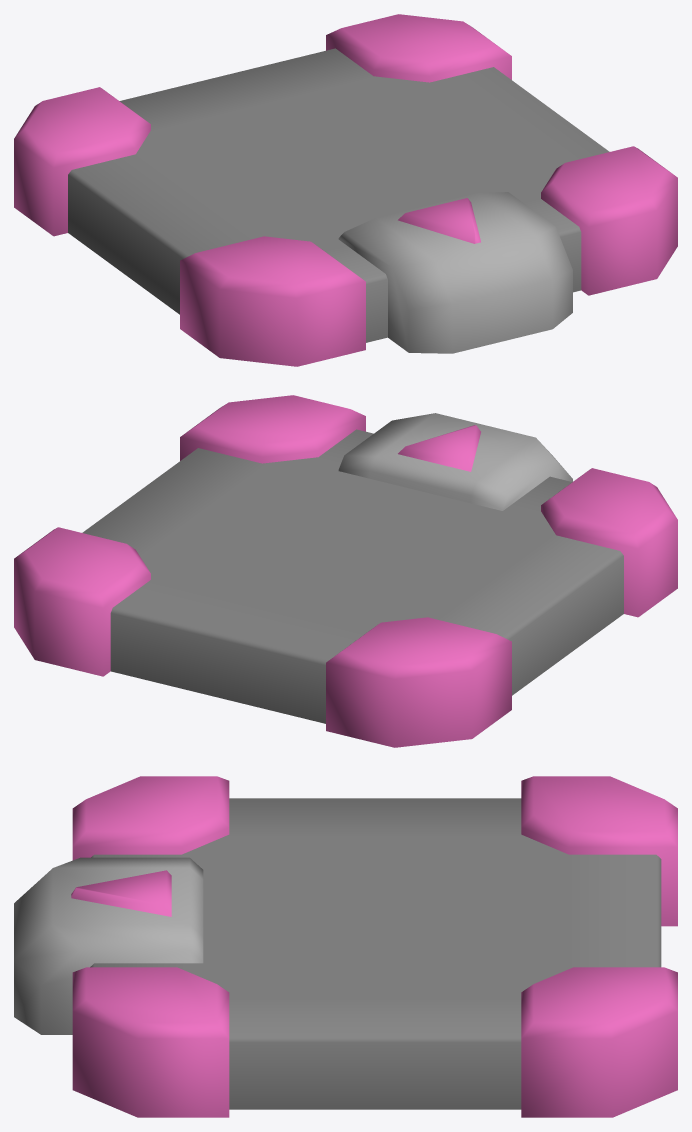
The model's file is PinkPieceBasePlate.glb.
The picture shows the model from 3 angles, top to bottom: view 1: azimuth 30°, elevation 25°; view 2: azimuth 150°, elevation 25°; view 3: azimuth 270°, elevation 25°; orthographic projection. The views are drawn at different scales.
Parts seen in each view (by area): view 1: Peice Base - Pink; view 2: Peice Base - Pink; view 3: Peice Base - Pink.
Part boxes in pixels (x1,y1,x2,y2): Peice Base - Pink: [14, 14, 677, 366]; Peice Base - Pink: [14, 395, 677, 747]; Peice Base - Pink: [14, 776, 677, 1117].
Size of the model in its own units: 0.8785 by 0.1605 by 0.9559.
